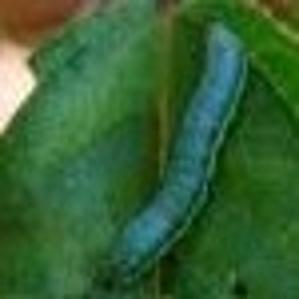Beet armyworm: (69, 7, 266, 286)
